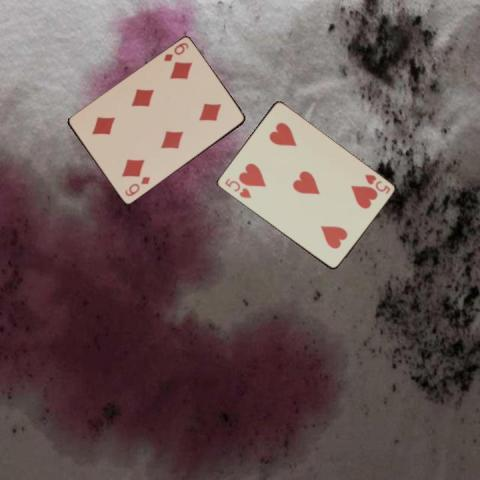5h: (221, 175, 253, 200), (362, 171, 392, 196)
6d: (122, 174, 151, 198), (161, 40, 190, 63)
